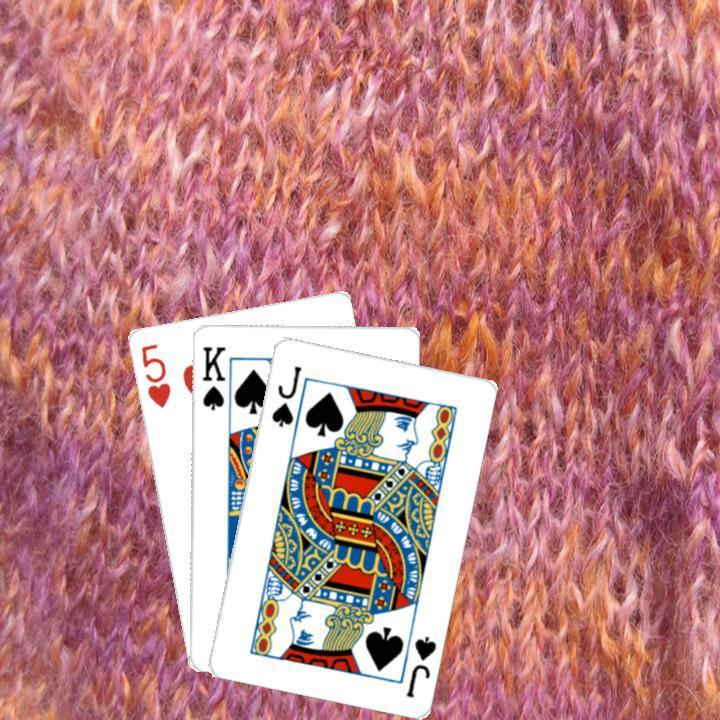5: (136, 338, 172, 410)
J: (266, 361, 303, 429), (401, 631, 438, 699)
K: (197, 341, 227, 412)
